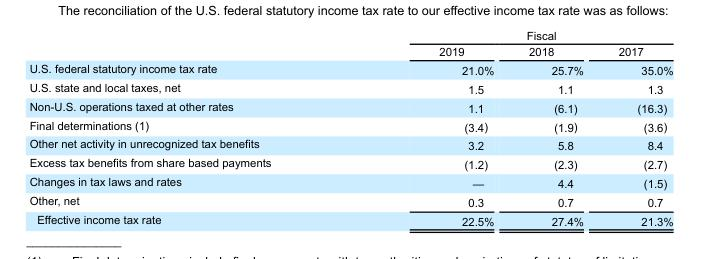table: (28, 28, 672, 227)
table column: (28, 28, 354, 227), (354, 28, 510, 227), (510, 28, 600, 227), (600, 28, 672, 227)
table column header: (28, 28, 672, 59)
table row: (28, 59, 672, 78), (28, 78, 672, 97), (28, 97, 672, 116), (28, 116, 672, 135), (28, 135, 672, 154), (28, 172, 672, 191), (28, 191, 672, 210), (28, 154, 672, 172), (28, 210, 672, 227), (28, 43, 672, 59), (28, 28, 672, 43)
table spanning cell: (354, 28, 672, 43)
